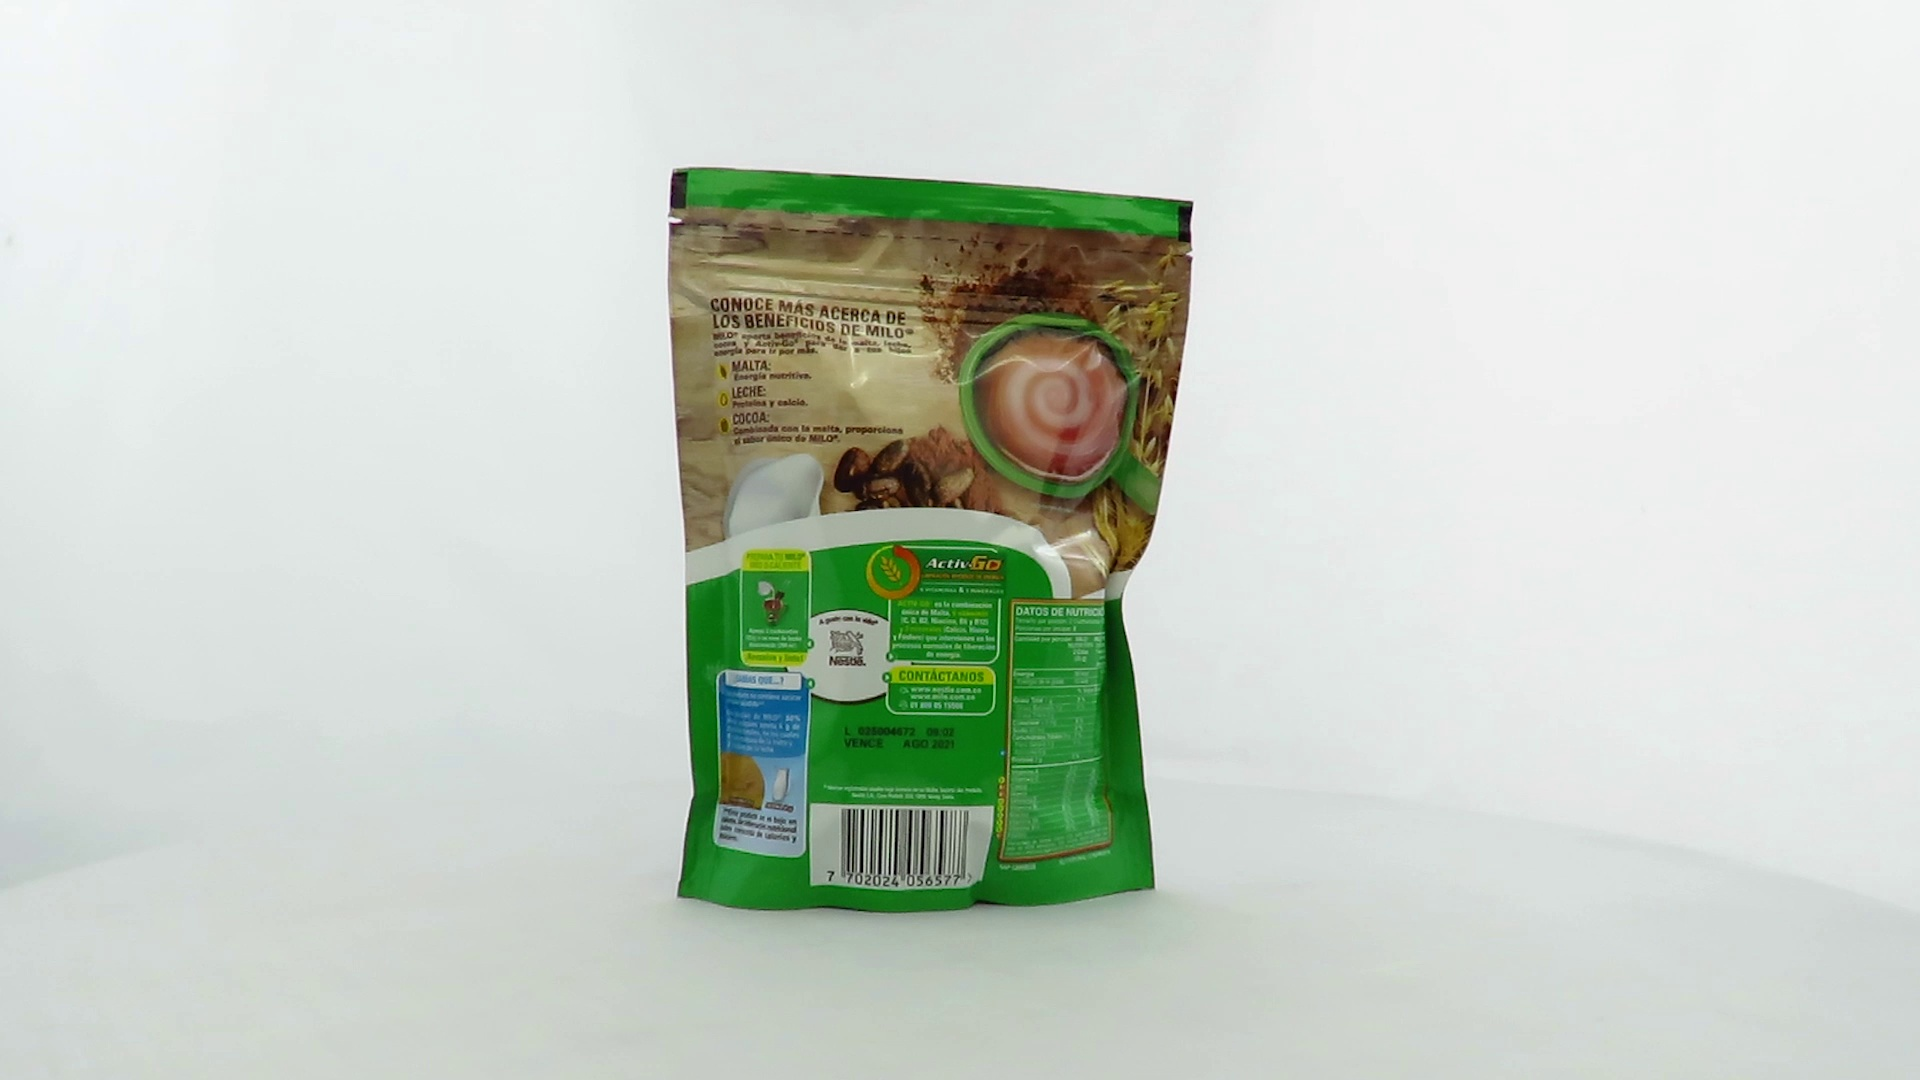COL0170205DYP20000: (662, 162, 1200, 920)
